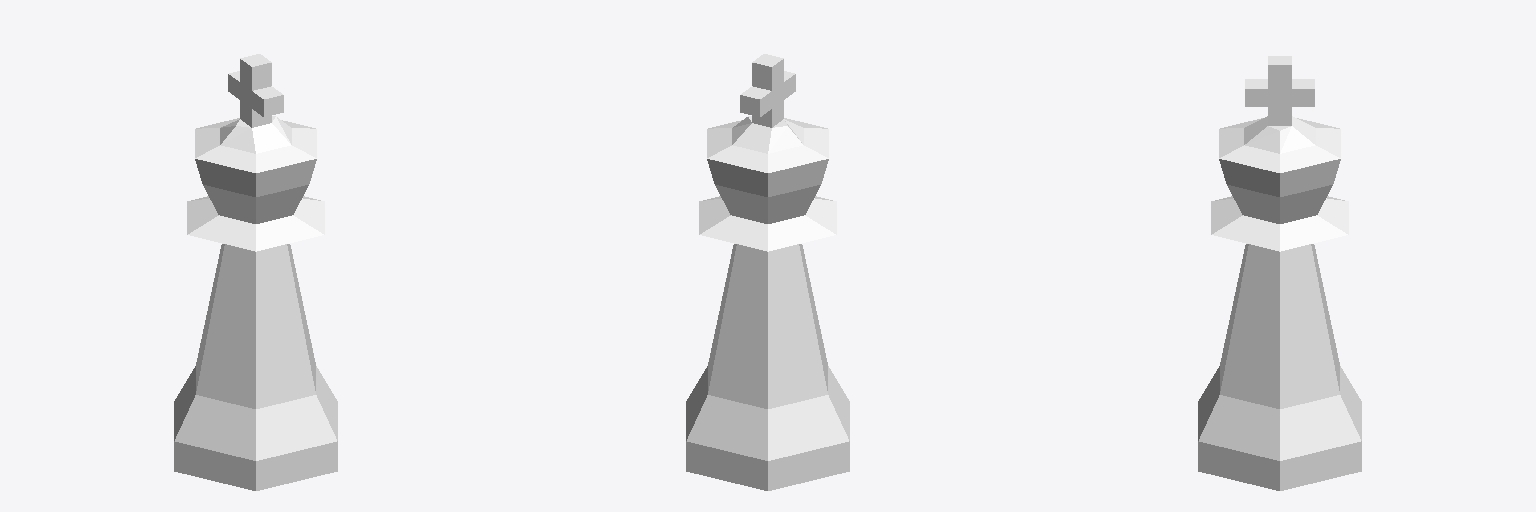
The model's file is king_white.obj.
3 views of the same model, side by side, from view 1: azimuth 30°, elevation 25°; view 2: azimuth 150°, elevation 25°; view 3: azimuth 270°, elevation 25° (orthographic).
Visible parts, largest first — view 1: King_Sphere.008; view 2: King_Sphere.008; view 3: King_Sphere.008.
Part boxes in pixels (x1,y1,x2,y2): King_Sphere.008: (174, 54, 337, 490); King_Sphere.008: (686, 54, 849, 490); King_Sphere.008: (1198, 56, 1361, 490).
Bounding box in the file's own units: 0.2885 × 0.6593 × 0.2498.